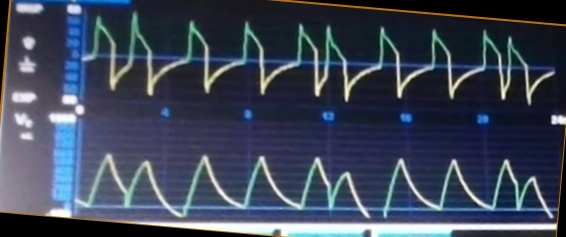Double_Triggering Flow: (87, 10, 548, 107)
Double_Triggering Volume: (85, 149, 552, 219)
